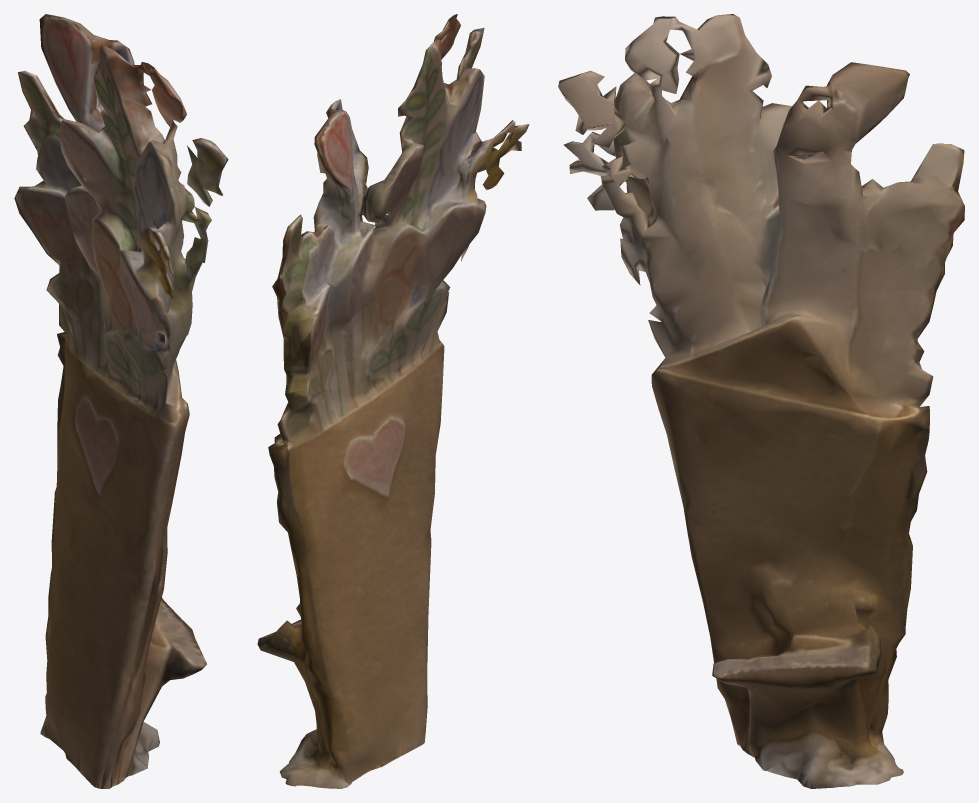
Rendered from Flowers_3DModel_LowPoly.glb.
The picture shows the model from 3 angles, left to right: view 1: azimuth 30°, elevation 25°; view 2: azimuth 150°, elevation 25°; view 3: azimuth 270°, elevation 25°; orthographic projection. The views are drawn at different scales.
Parts seen in each view (by area): view 1: 3DModel_LowPoly; view 2: 3DModel_LowPoly; view 3: 3DModel_LowPoly.
Part boxes in pixels (<box>): 3DModel_LowPoly: <box>14,14,228,788</box>; 3DModel_LowPoly: <box>257,14,529,788</box>; 3DModel_LowPoly: <box>558,14,964,788</box>.
Bounding box in the file's own units: 0.7369 × 3.82 × 1.93.
1 material, 1 textured.
